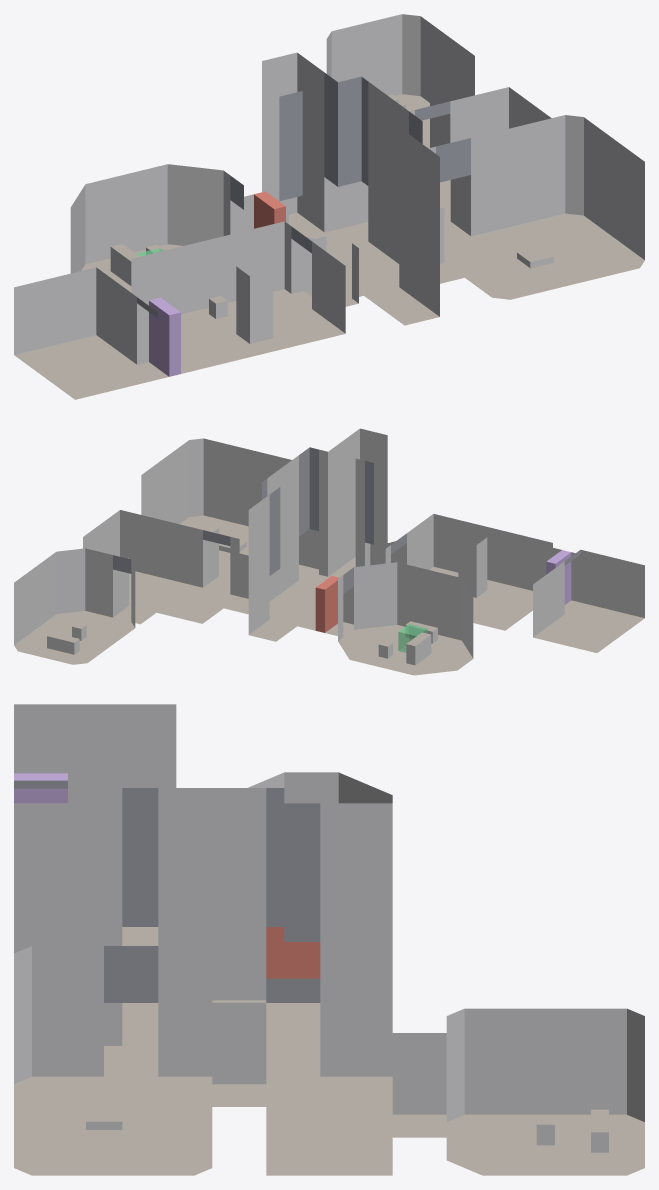
Rendered from deck_04.glb.
3 views of the same model, one above another, from view 1: azimuth 30°, elevation 25°; view 2: azimuth 150°, elevation 25°; view 3: azimuth 270°, elevation 25° (orthographic). The views are drawn at different scales.
Parts seen in each view (by area): view 1: room:2, room:4, room:5, room:3, room:6, room:0, room:1, entities, corridor:1, corridor:4, corridor:6, corridor:5 (+3 smaller); view 2: room:2, room:3, room:0, room:4, room:5, room:1, room:6, entities, corridor:0, corridor:6, corridor:3, corridor:1 (+3 smaller); view 3: room:2, room:4, room:0, room:1, room:6, corridor:0, corridor:6, entities, room:3, room:5, corridor:3, corridor:1.
Boxes of the visible parts, x1,y1,x2,y2 form: room:2: (262,52,439,325); room:4: (428,115,644,299); room:5: (131,221,345,370); room:3: (70,164,243,292); room:6: (14,267,157,399); room:0: (326,14,474,148); room:1: (409,87,551,222); entities: (136,191,285,376); corridor:1: (324,177,368,242); corridor:4: (291,236,358,308); corridor:6: (444,175,470,242); corridor:5: (137,295,192,379); room:2: (248,428,387,641); room:3: (338,562,473,675); room:0: (14,548,135,664); room:4: (141,438,291,578); room:5: (385,514,552,630); room:1: (83,510,239,623); room:6: (533,549,644,652); entities: (315,550,571,652); corridor:0: (113,558,155,624); corridor:6: (203,528,230,594); corridor:3: (299,529,318,579); corridor:1: (224,553,279,619); room:2: (14,788,392,1053); room:4: (14,946,212,1175); room:0: (446,1008,644,1175); room:1: (266,978,392,1175); room:6: (14,704,176,780); corridor:0: (392,1033,446,1137); corridor:6: (212,1002,266,1106); entities: (14,773,320,978); room:3: (248,772,392,803); room:5: (14,780,176,945); corridor:3: (104,1003,158,1076); corridor:1: (266,1038,320,1076).
Bounding box in the file's own units: 49 × 13 × 35.
